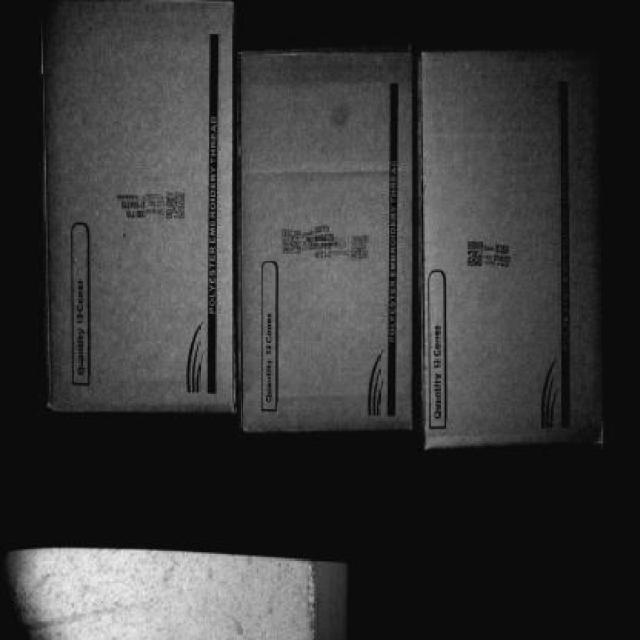box: (39, 0, 240, 412), (427, 51, 606, 444), (245, 51, 418, 432)
